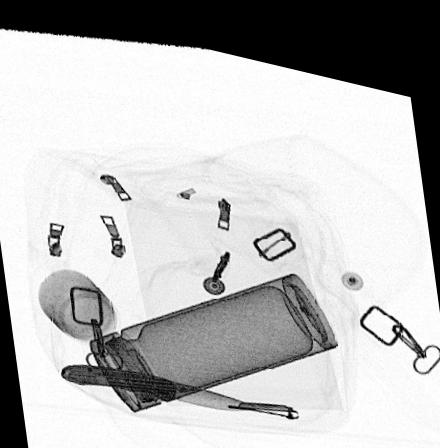Knife: (59, 360, 261, 400)
